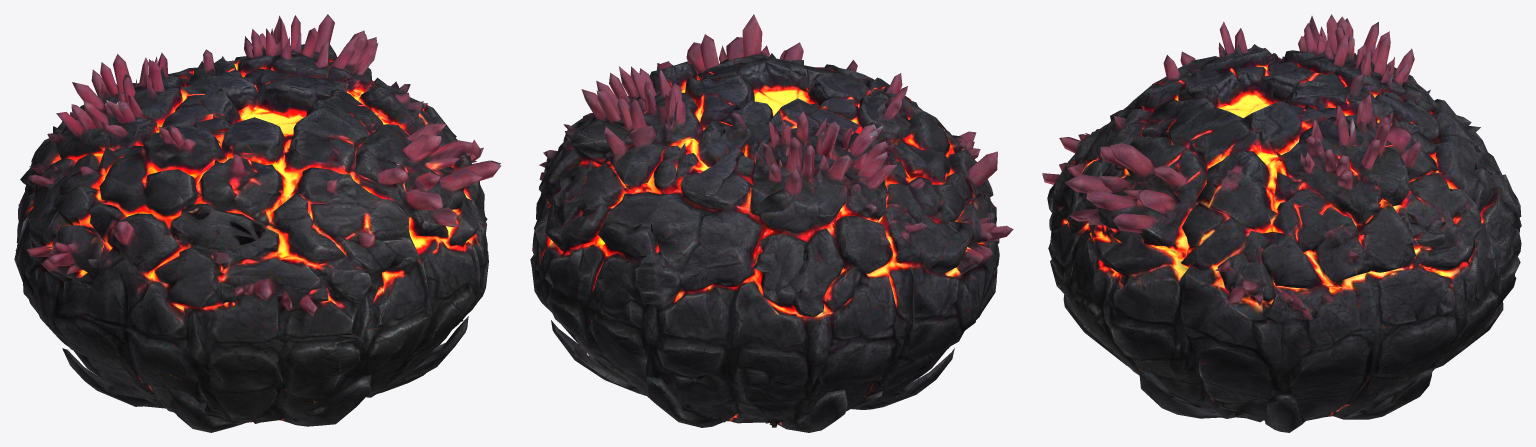
The model's file is skarnox.glb.
The picture shows the model from 3 angles, left to right: view 1: azimuth 30°, elevation 25°; view 2: azimuth 150°, elevation 25°; view 3: azimuth 270°, elevation 25°; orthographic projection.
Parts seen in each view (by area): view 1: skarnox; view 2: skarnox; view 3: skarnox.
Boxes of the visible parts, x1=… form: skarnox: x1=14, y1=14, x2=501, y2=432; skarnox: x1=530, y1=14, x2=1013, y2=432; skarnox: x1=1042, y1=14, x2=1521, y2=432.
Size of the model in its own units: 1.91 by 1.35 by 1.79.
1 material, 1 textured.
